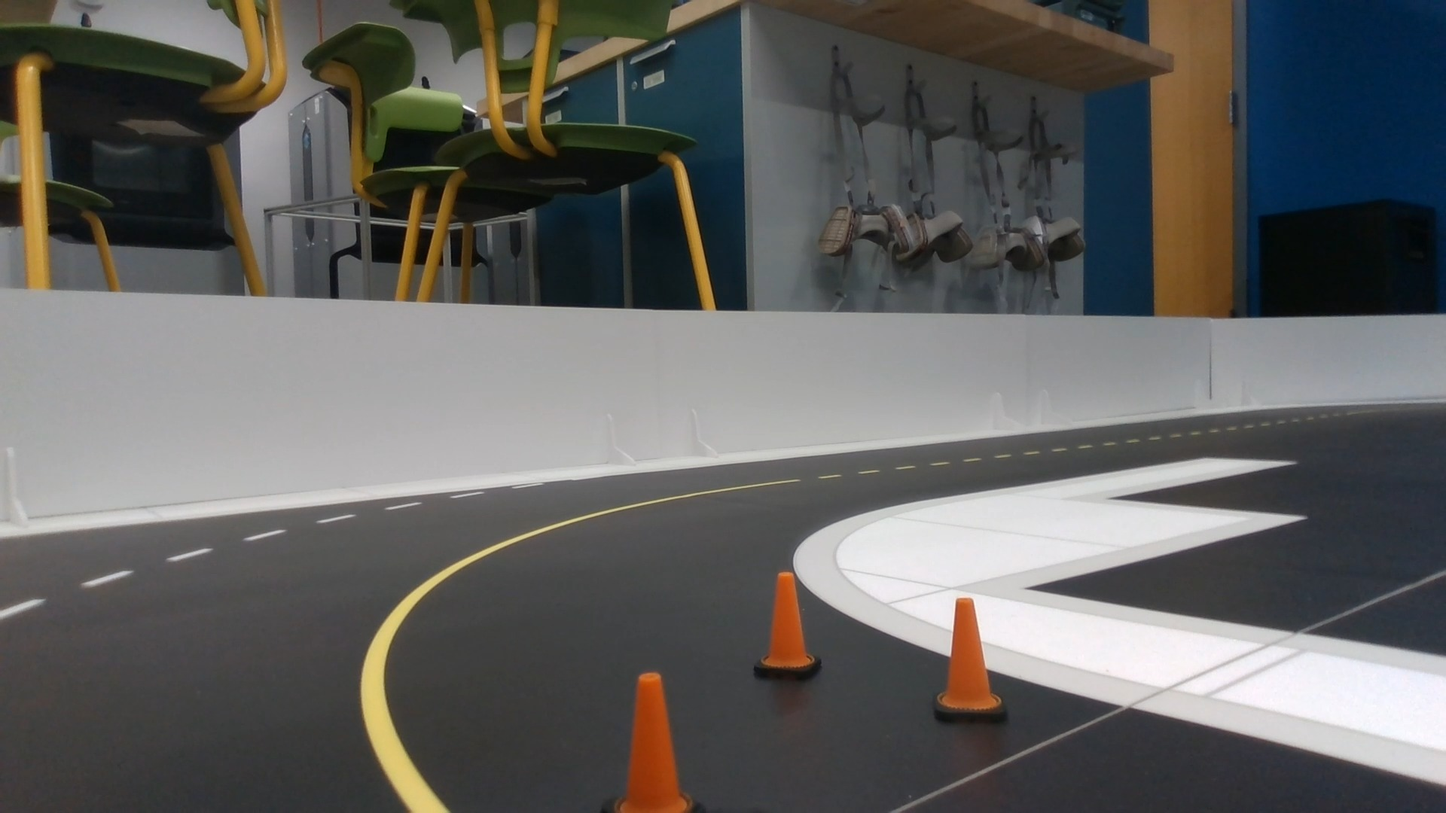Traffic Cone: (602, 673, 702, 812), (935, 598, 1006, 721), (754, 572, 821, 679)
